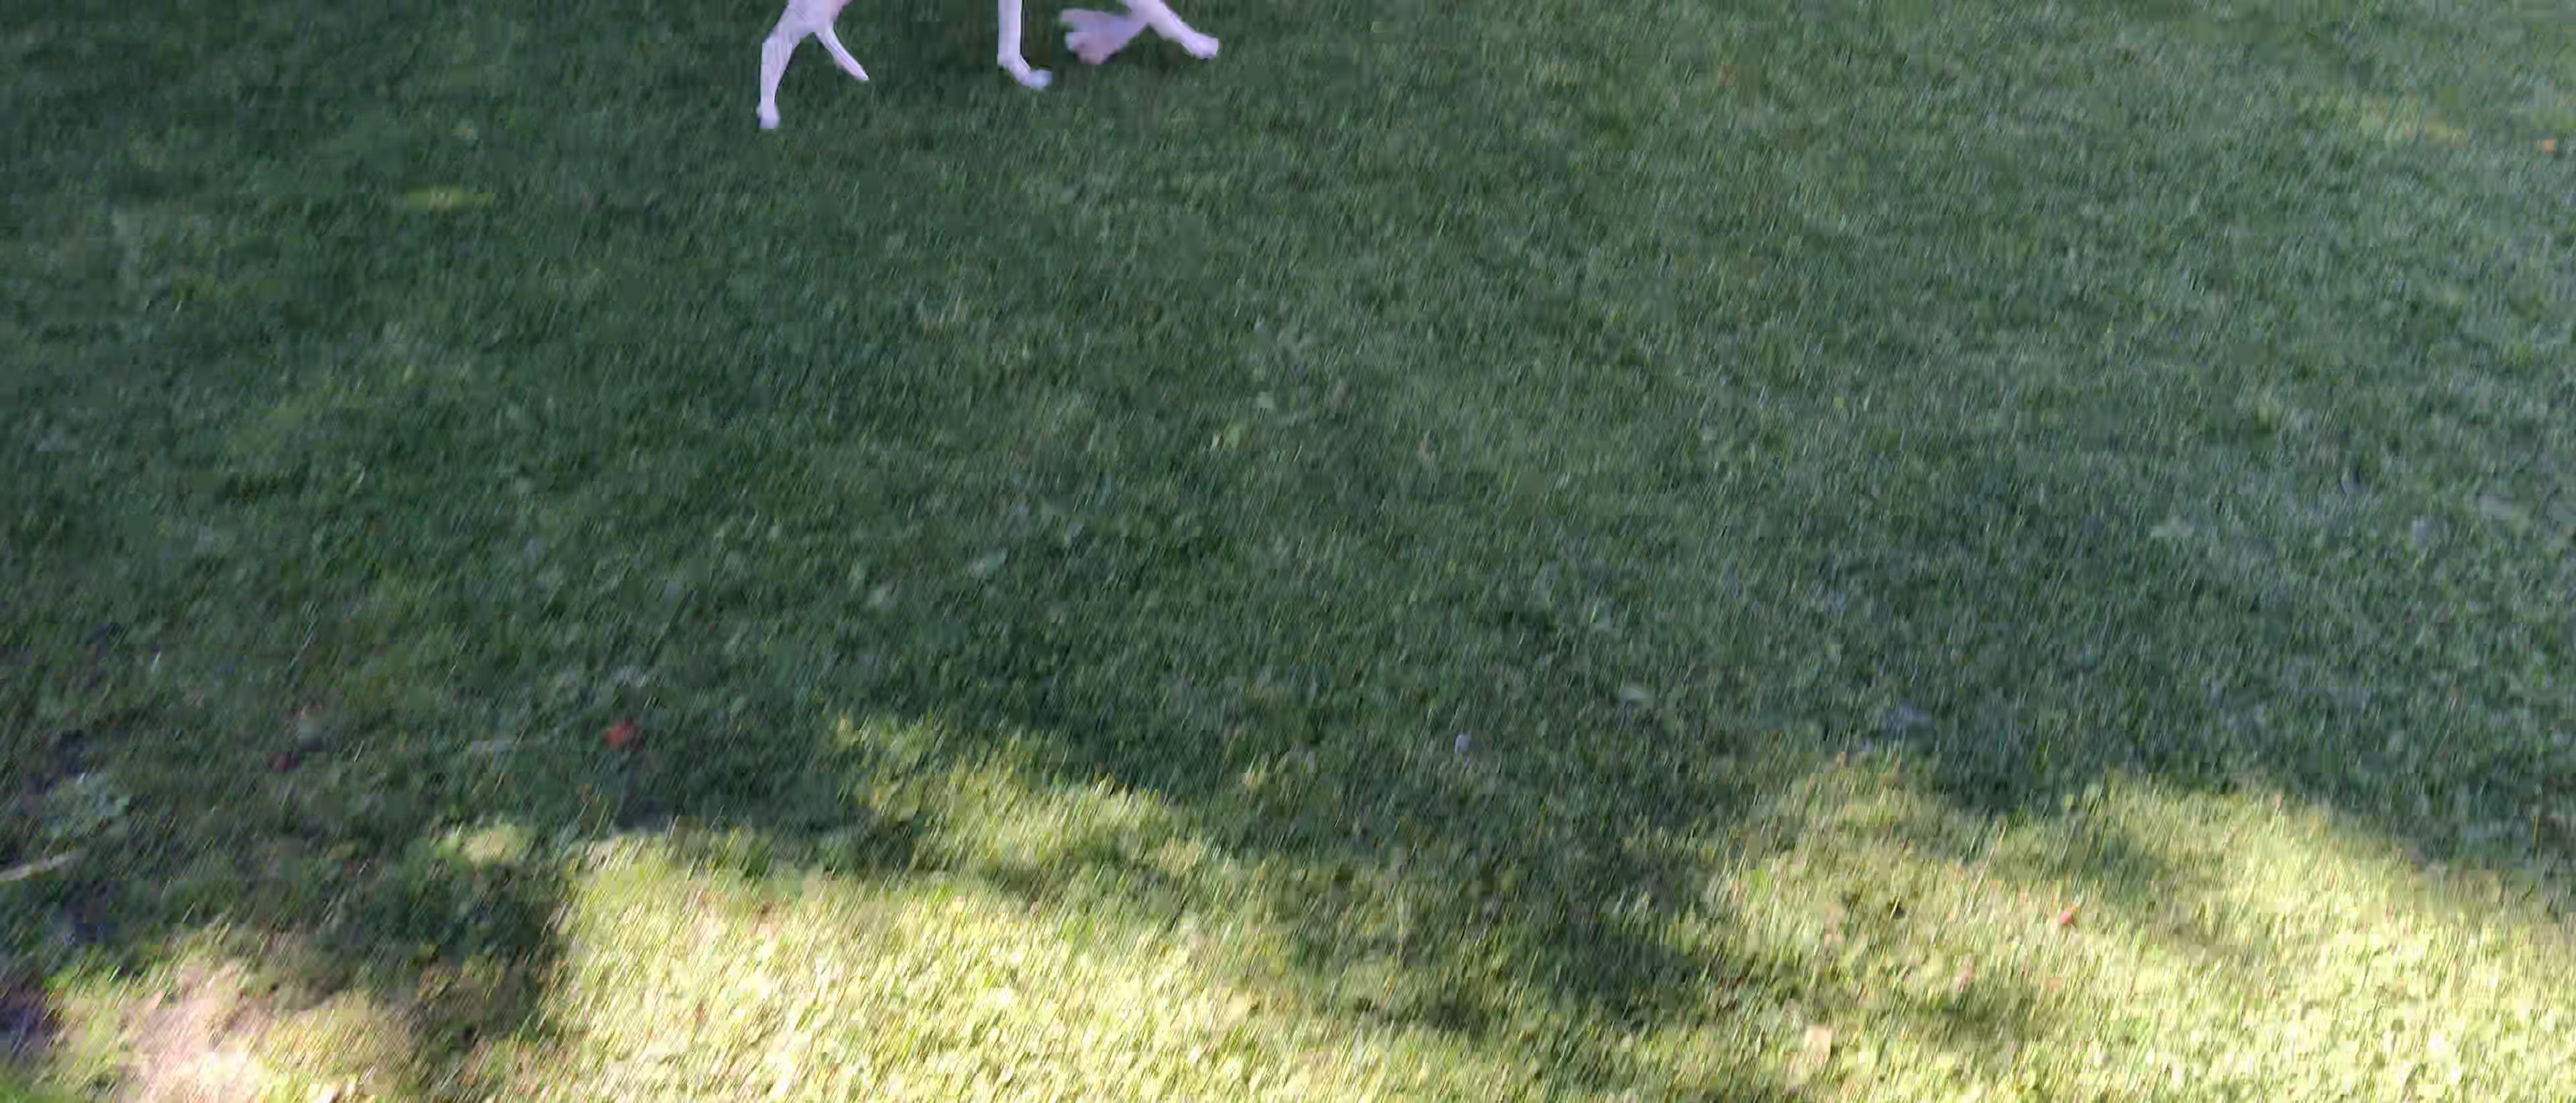Dog: (751, 0, 1224, 136)
